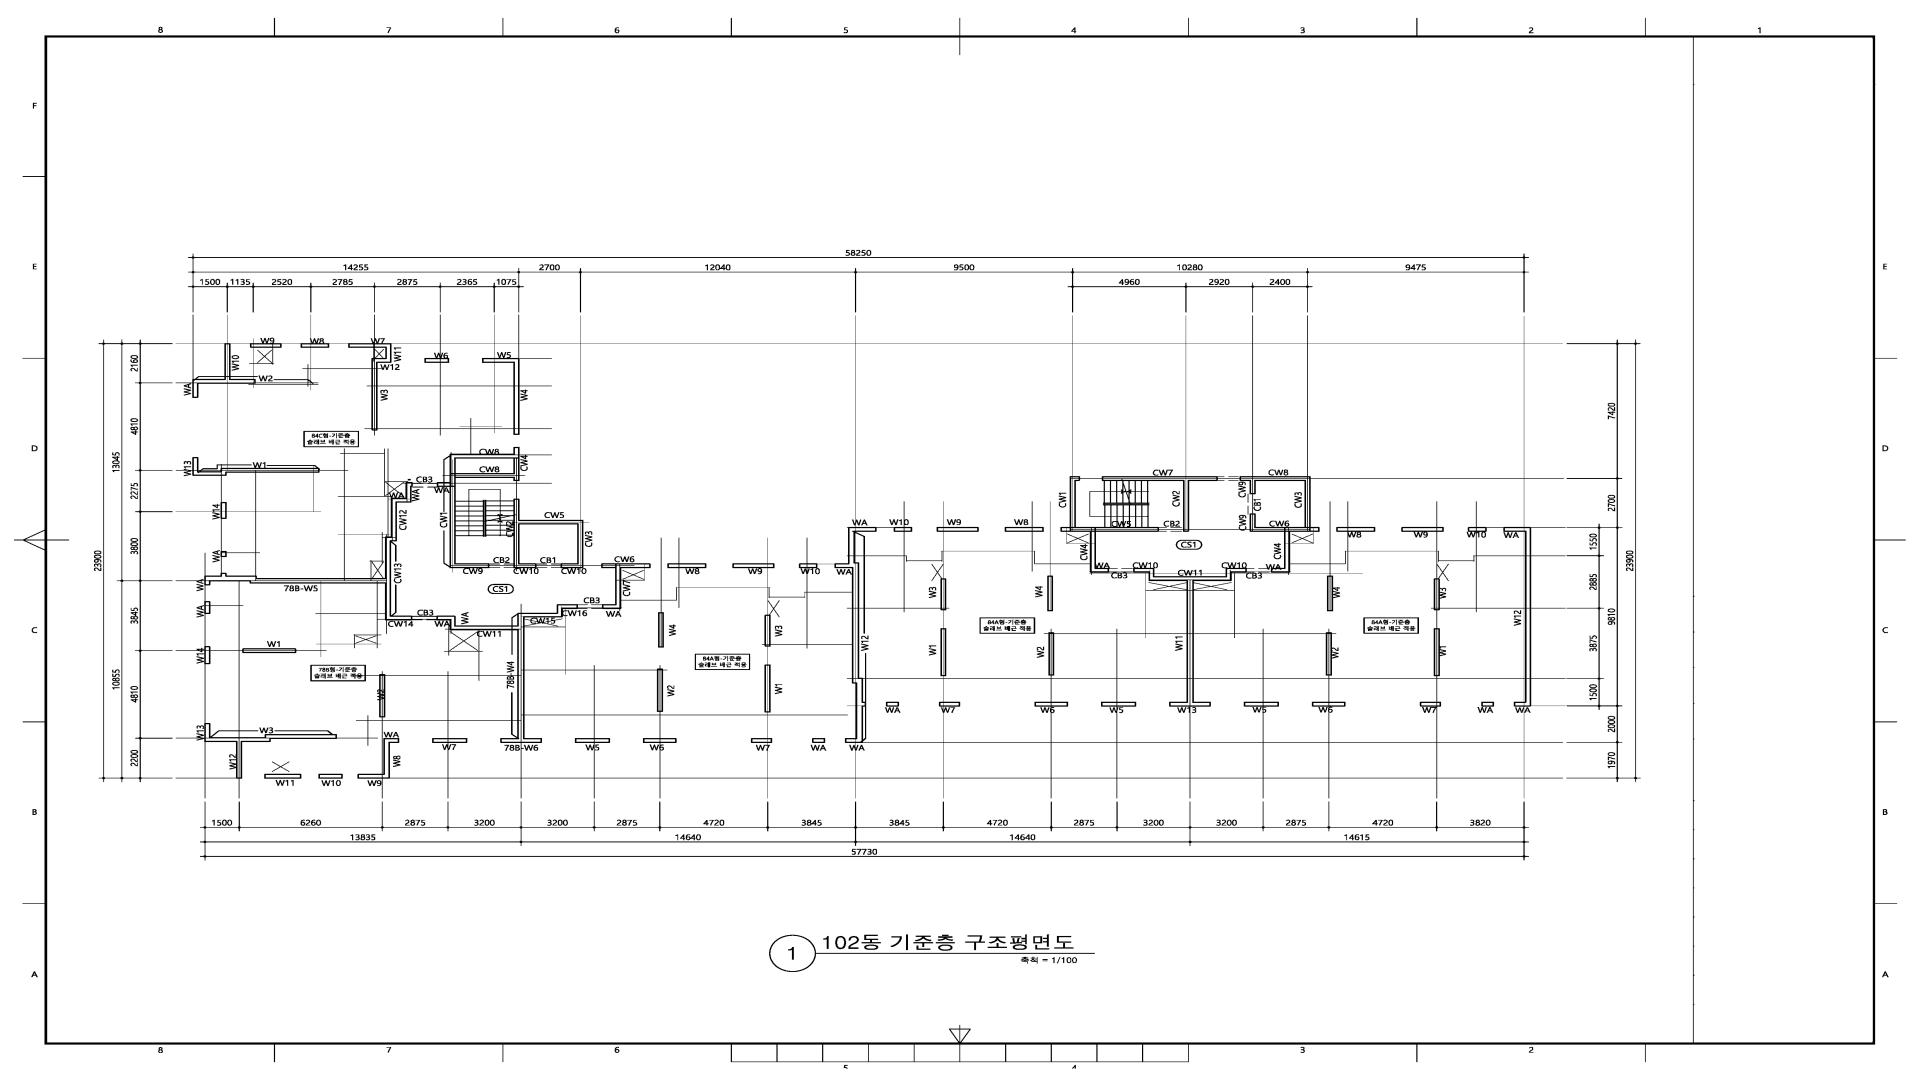wall: (1503, 527, 1531, 707), (450, 487, 489, 568), (385, 502, 411, 620), (193, 458, 319, 476), (835, 527, 877, 568), (357, 738, 400, 778), (513, 498, 537, 568), (456, 459, 520, 481), (845, 678, 866, 742), (1250, 513, 1320, 531), (193, 378, 256, 398), (211, 735, 336, 742), (517, 613, 525, 738), (560, 525, 583, 568), (852, 568, 860, 678), (450, 447, 520, 459), (1089, 531, 1109, 572), (1187, 582, 1193, 702), (1149, 572, 1232, 582), (603, 568, 621, 609), (1271, 531, 1290, 572), (249, 578, 385, 583), (450, 620, 517, 630), (525, 604, 578, 617), (204, 572, 256, 585), (1102, 476, 1217, 481), (436, 459, 456, 487), (1069, 476, 1080, 527), (513, 363, 520, 435), (1060, 527, 1159, 531), (1240, 476, 1311, 481), (372, 363, 377, 430), (520, 520, 583, 525), (1183, 481, 1189, 531), (940, 628, 947, 676), (1433, 628, 1440, 676), (1304, 481, 1311, 527), (372, 348, 392, 363), (378, 674, 385, 717), (657, 669, 663, 712), (1325, 632, 1332, 675), (243, 647, 297, 653), (601, 563, 650, 568), (765, 665, 770, 712), (1047, 575, 1054, 612), (1327, 575, 1333, 612), (224, 343, 231, 378), (236, 742, 243, 778), (348, 343, 392, 348), (1048, 632, 1054, 675), (732, 563, 774, 568), (936, 526, 978, 531), (1170, 702, 1211, 707), (667, 563, 707, 568), (940, 579, 947, 611), (1433, 579, 1440, 611), (483, 357, 520, 363), (658, 612, 663, 647), (1101, 702, 1137, 707), (1244, 702, 1279, 707), (1035, 702, 1068, 707), (1312, 702, 1345, 707), (251, 343, 282, 348), (405, 481, 413, 502), (500, 738, 542, 742), (765, 615, 770, 646), (1225, 568, 1246, 576), (1402, 527, 1444, 531), (1336, 527, 1375, 531), (301, 343, 330, 348), (264, 774, 302, 778), (1005, 527, 1043, 531), (575, 738, 611, 742), (433, 738, 467, 742), (318, 774, 343, 779), (425, 357, 450, 363), (204, 723, 211, 742), (644, 738, 676, 742), (204, 646, 211, 665), (220, 502, 227, 520), (939, 702, 960, 707), (1420, 702, 1441, 707), (799, 563, 818, 568), (204, 601, 211, 615), (752, 738, 773, 742), (1133, 568, 1154, 572), (436, 616, 456, 620), (390, 497, 405, 502), (894, 527, 913, 531), (1468, 527, 1486, 531), (886, 702, 899, 707), (1250, 481, 1255, 495), (1481, 702, 1494, 707), (812, 738, 825, 742), (220, 551, 227, 556)
